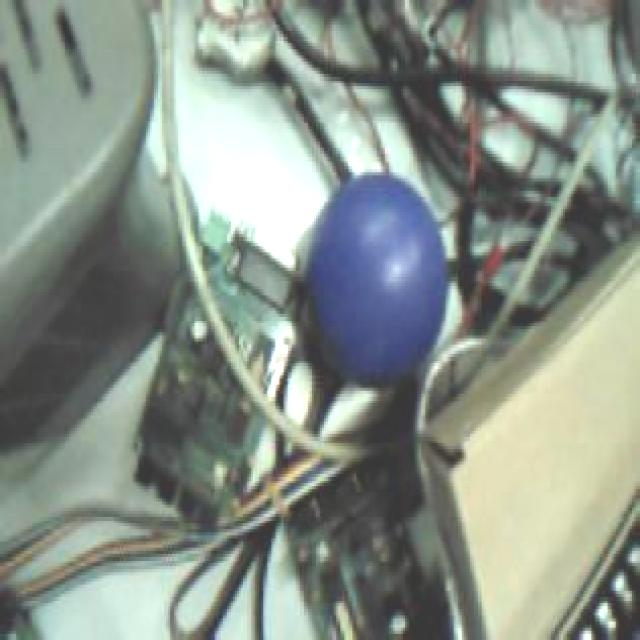BallPurple: (308, 172, 446, 379)
